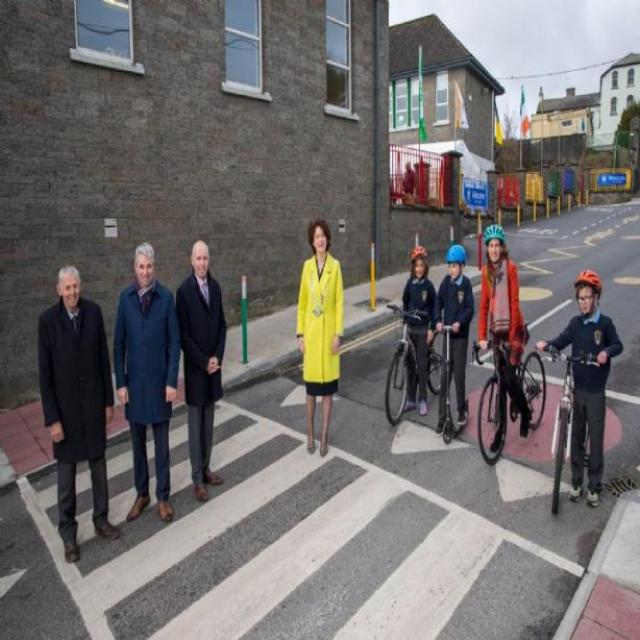pedestrian lane: (17, 401, 587, 640)
